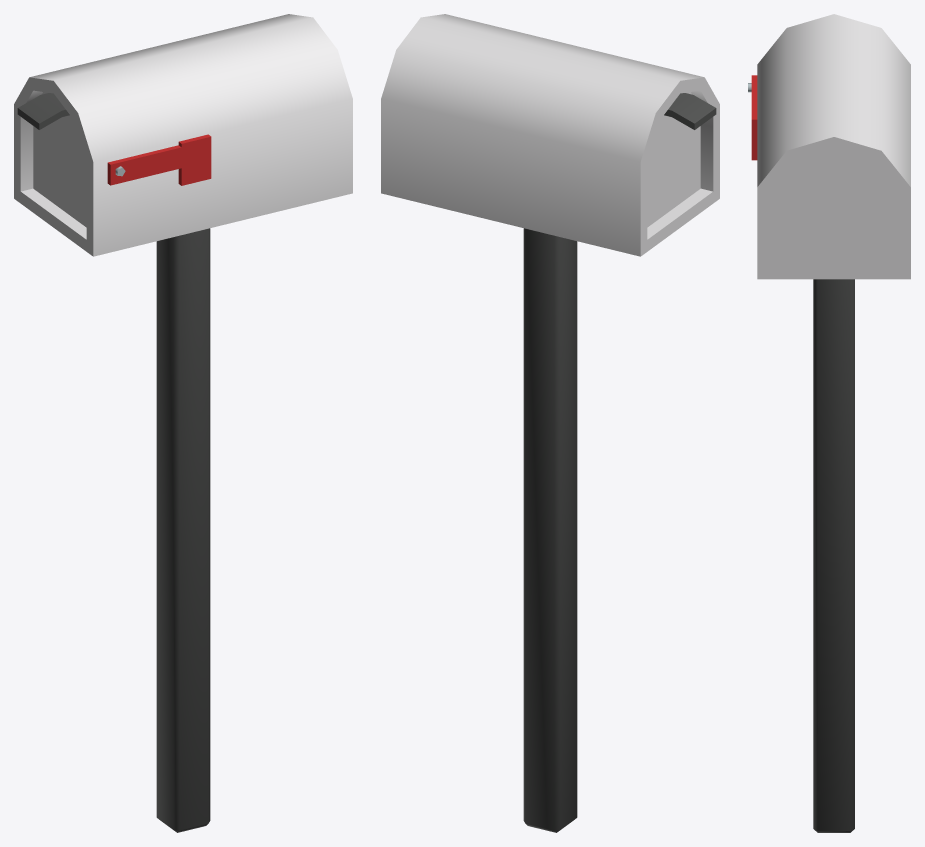
The model's file is SM_mailbox_001.obj.
3 renders of one model, left to right at view 1: azimuth 30°, elevation 25°; view 2: azimuth 150°, elevation 25°; view 3: azimuth 270°, elevation 25°, orthographic. The views are drawn at different scales.
Parts seen in each view (by area): view 1: SM_mailbox_001_M_Material; view 2: SM_mailbox_001_M_Material; view 3: SM_mailbox_001_M_Material.
Part boxes in pixels (left/top/right/bottom): SM_mailbox_001_M_Material: left=14, top=14, right=352, bottom=832; SM_mailbox_001_M_Material: left=381, top=14, right=719, bottom=832; SM_mailbox_001_M_Material: left=748, top=14, right=910, bottom=832.
Size of the model in its own units: 0.379 by 0.9847 by 0.1936.
Materials: 1 (1 with a texture image).
